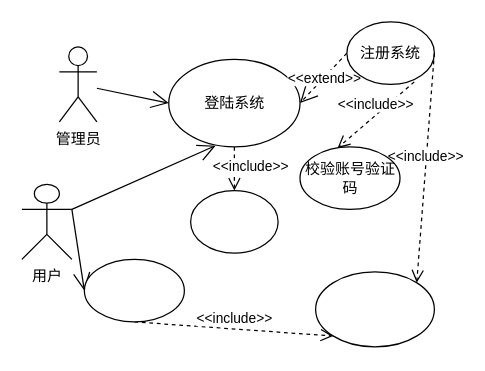
This 485x371 diagram has some shape labels left out. Each missing label, with the centre of its shape:
"修改密码" belongs at (133,290).
"发送邮箱验证码" belongs at (374,309).
"身份验证" belongs at (233,221).
